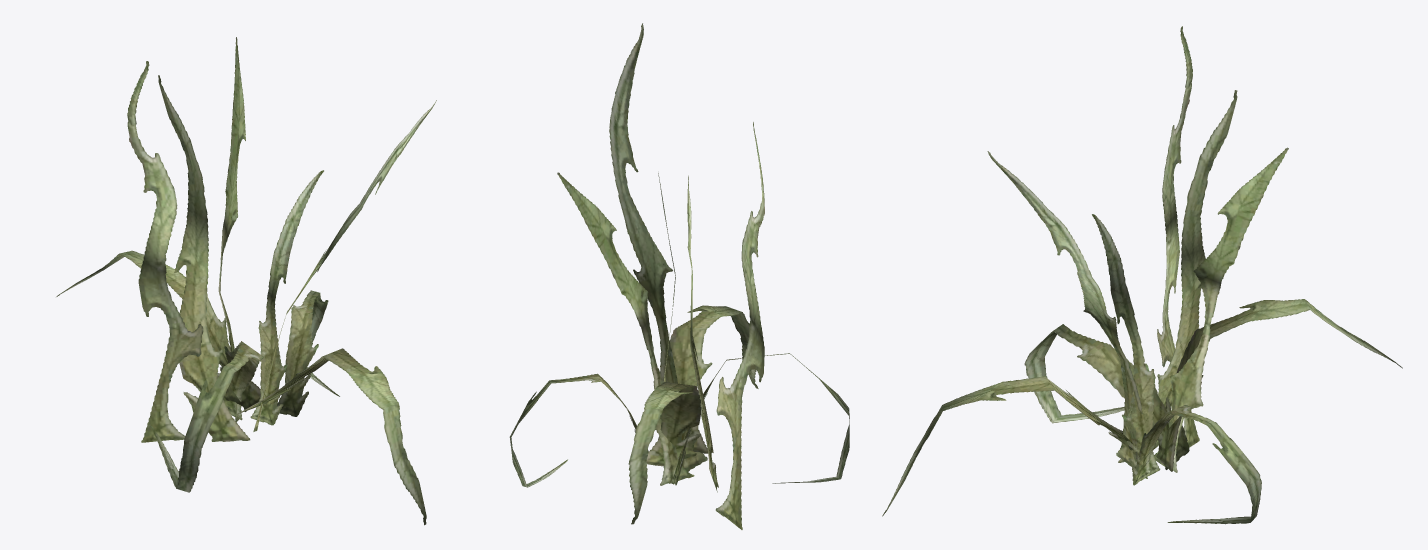
File: core_leaf_razorgrass_frst_l0.fbx
3 renders of one model, left to right at view 1: azimuth 30°, elevation 25°; view 2: azimuth 150°, elevation 25°; view 3: azimuth 270°, elevation 25°, orthographic. The views are drawn at different scales.
Visible parts, largest first — view 1: mesh_node; view 2: mesh_node; view 3: mesh_node.
Part boxes in pixels (bbox=[...]): mesh_node: bbox=[56, 37, 436, 525]; mesh_node: bbox=[509, 23, 849, 529]; mesh_node: bbox=[882, 26, 1402, 524].
Bounding box in the file's own units: 1.34 × 1.85 × 2.09.
